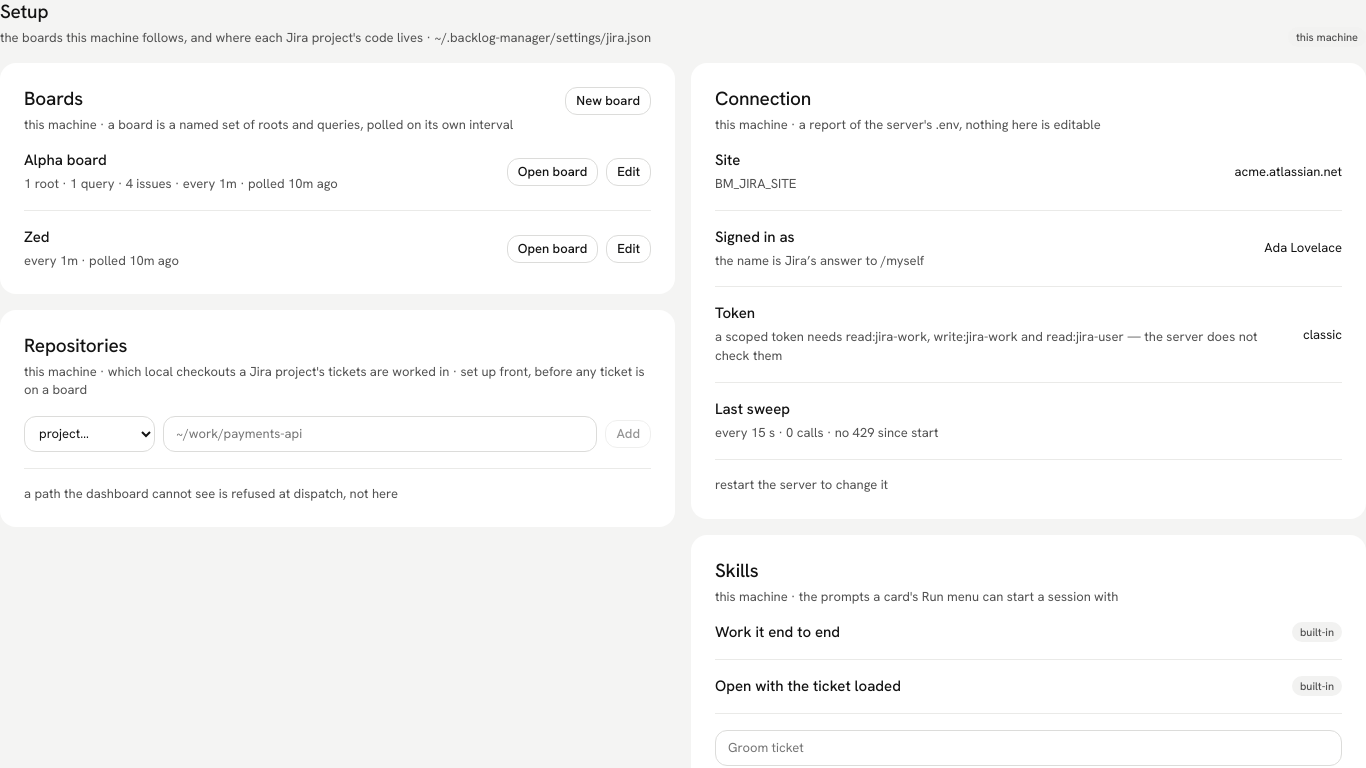
Test case: the Boards card › `Open board` stores the pick and switches the page store to board
Check: the heading "Boards" is shown, box [24,86,83,111]
Click the button with aria-label "Open board Zed": (552, 248) [507,234,598,262]
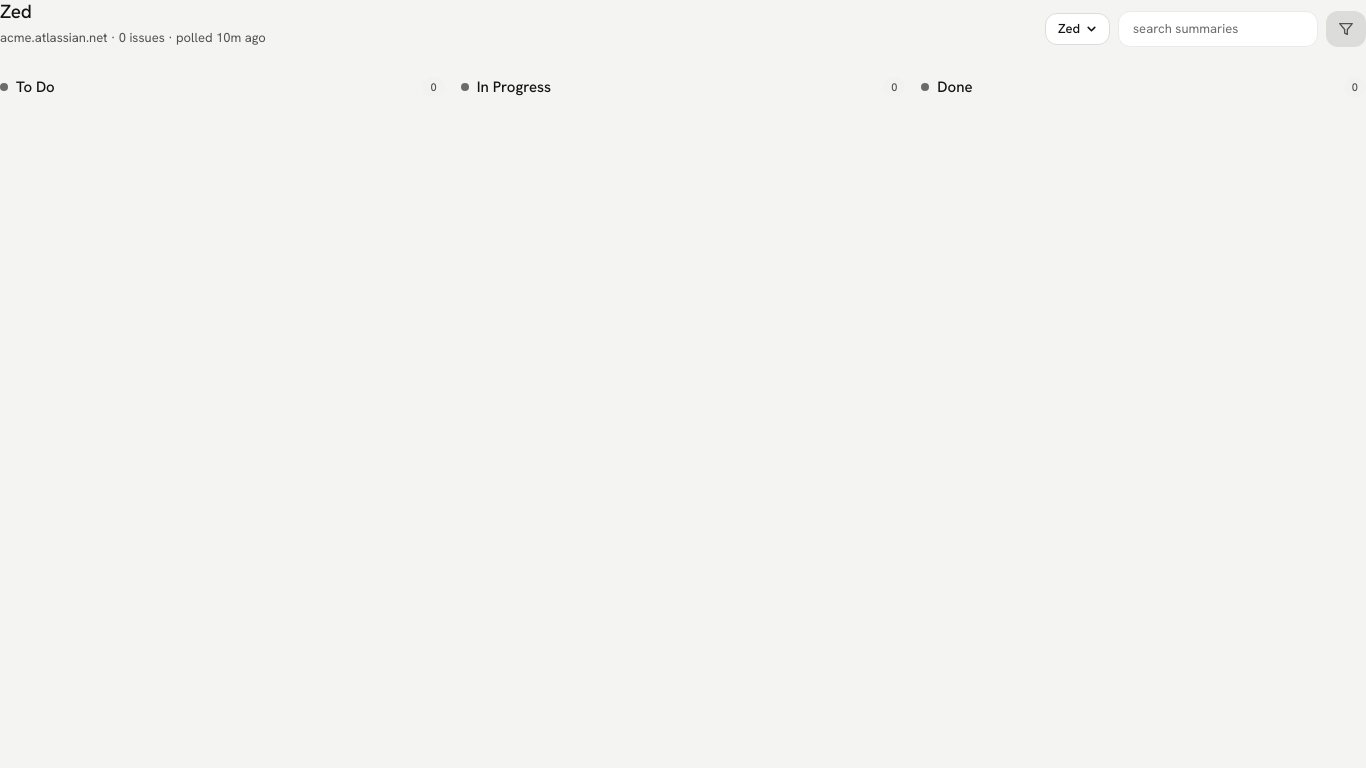
Check: the text "boards" is gone
